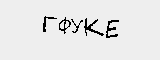Г: (40, 15, 56, 36)
Е: (106, 16, 120, 42)
К: (83, 15, 103, 39)
У: (73, 18, 86, 37)
Ф: (57, 15, 73, 35)
